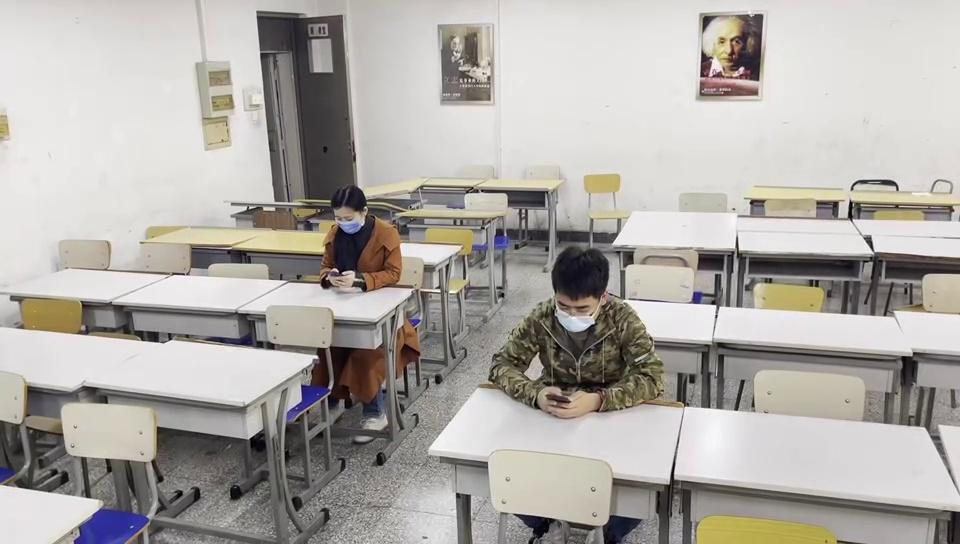phone: (487, 247, 663, 419), (319, 182, 403, 290)
